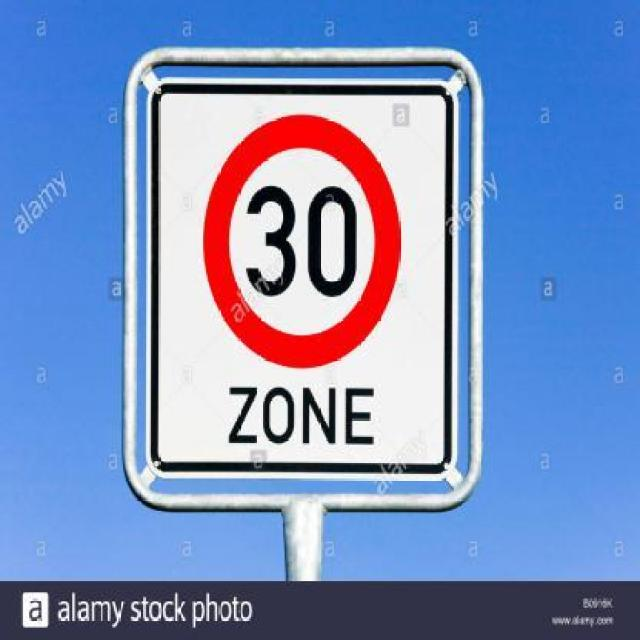traffic_sign: (206, 108, 403, 361)
